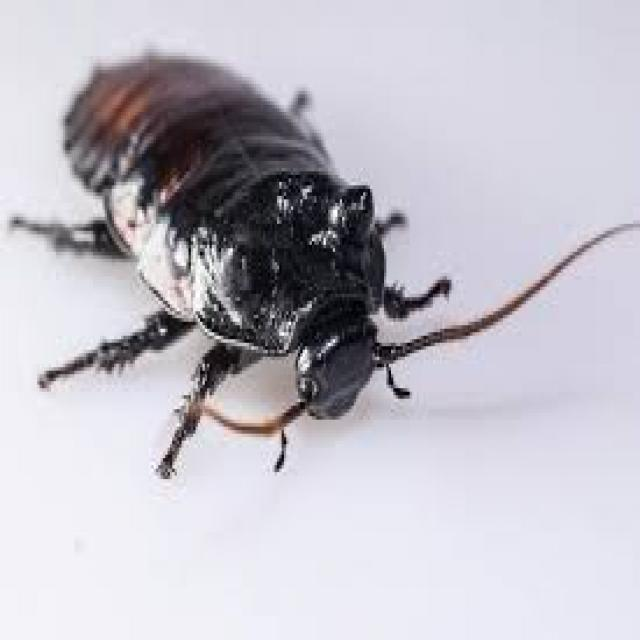Cockroach: (0, 25, 640, 507)
